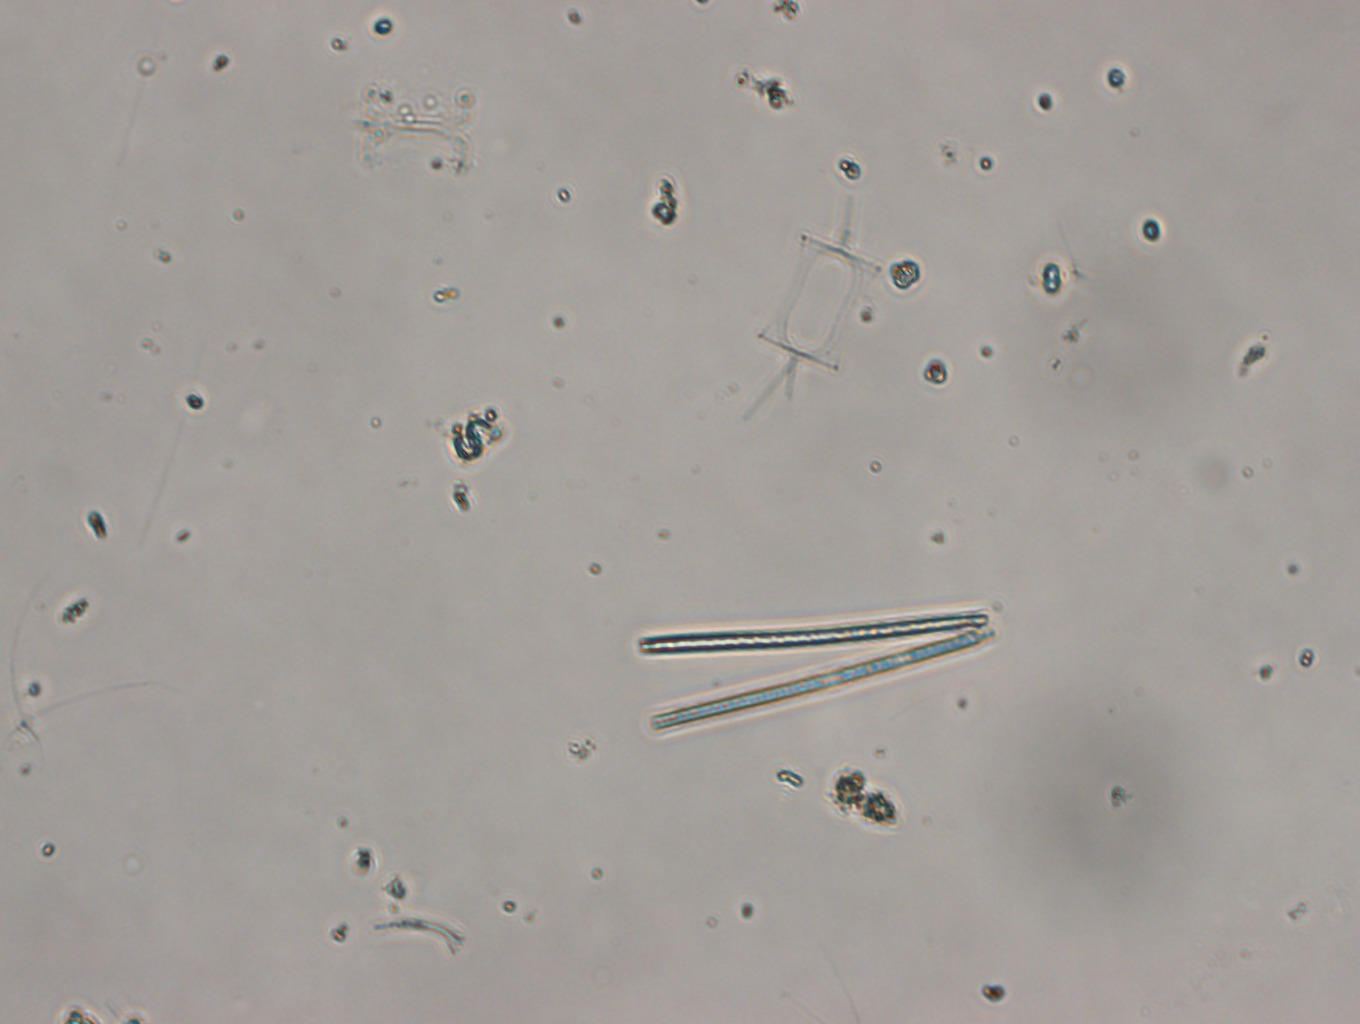thalassionema frauenfeldii: (626, 608, 1000, 735)
